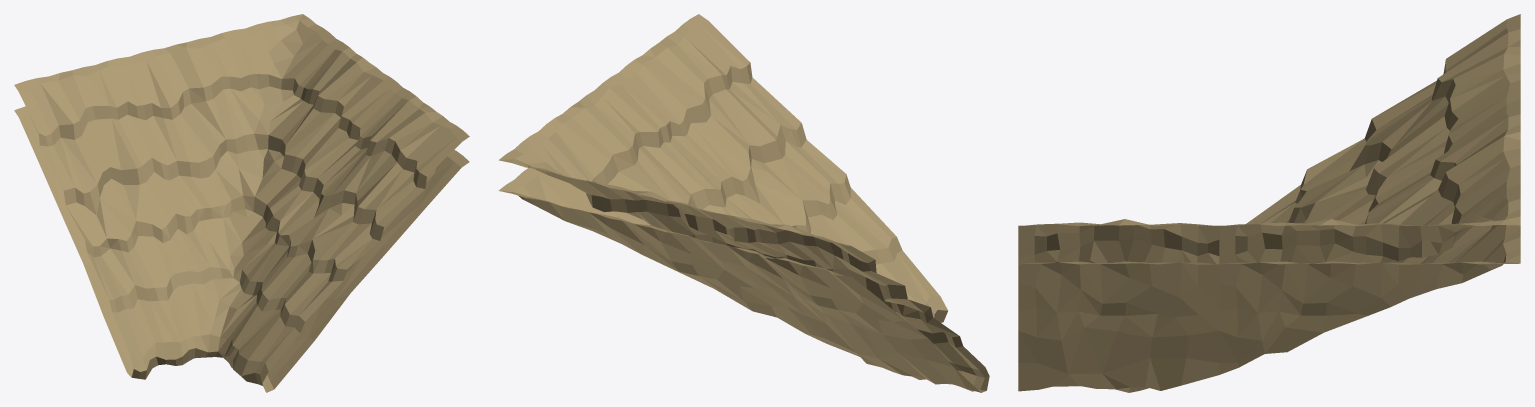
The model's file is rpgpp_ag_roof_02_9x4x3_corner_01.fbx.
The picture shows the model from 3 angles, left to right: view 1: azimuth 30°, elevation 25°; view 2: azimuth 150°, elevation 25°; view 3: azimuth 270°, elevation 25°; orthographic projection. The views are drawn at different scales.
Visible parts, largest first — view 1: rpgpp_ag_roof_02_9x4x3_corner_01; view 2: rpgpp_ag_roof_02_9x4x3_corner_01; view 3: rpgpp_ag_roof_02_9x4x3_corner_01.
Part boxes in pixels (box(x1,y1,x2,y2)): rpgpp_ag_roof_02_9x4x3_corner_01: box(14, 14, 469, 392); rpgpp_ag_roof_02_9x4x3_corner_01: box(498, 14, 989, 392); rpgpp_ag_roof_02_9x4x3_corner_01: box(1018, 14, 1520, 392).
Bounding box in the file's own units: 7.5 × 5.27 × 7.5.
